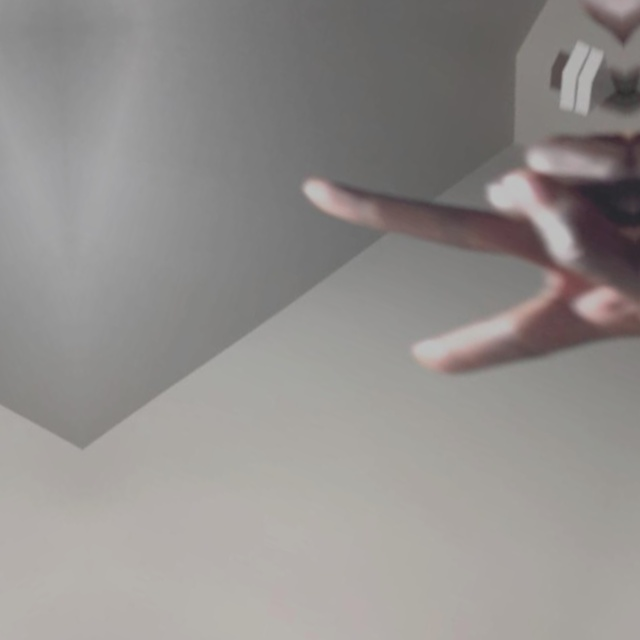Scissors: (621, 0, 640, 441)
